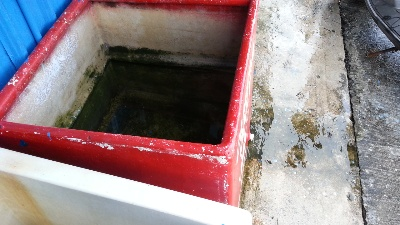box: (1, 1, 261, 214)
